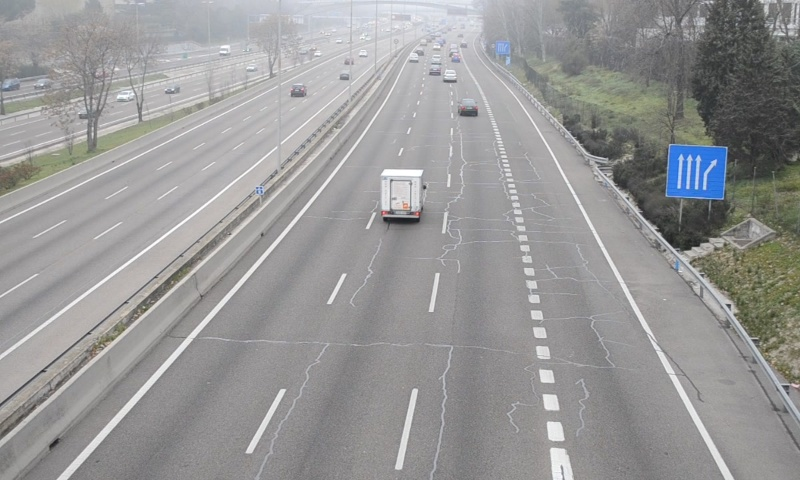car: (456, 96, 479, 117)
small-truck: (379, 169, 425, 220)
